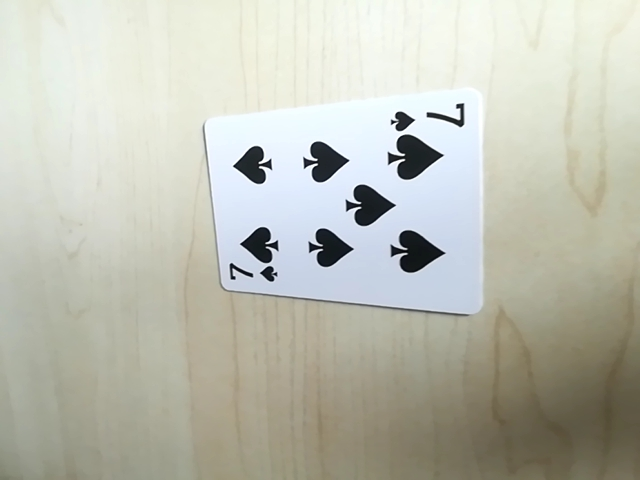ht 7: (385, 99, 468, 131), (220, 257, 283, 288)
